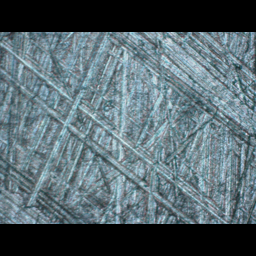d: (103, 32, 256, 149), (22, 35, 112, 208)
